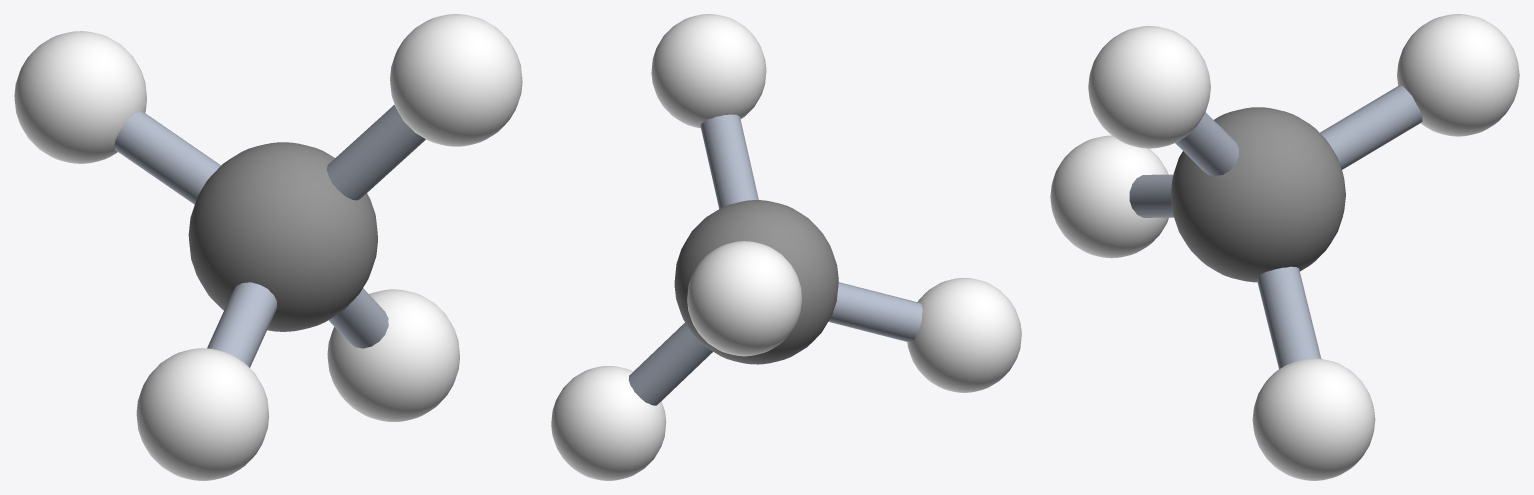
3 views of the same model, side by side, from view 1: azimuth 30°, elevation 25°; view 2: azimuth 150°, elevation 25°; view 3: azimuth 270°, elevation 25° (orthographic). The views are drawn at different scales.
Visible parts, largest first — view 1: H (×4), C, bond (×4); view 2: H (×4), C, bond (×3); view 3: H (×4), C, bond (×4).
Part boxes in pixels (left/top/right/bottom): H (×4): left=14, top=14, right=522, bottom=480; C: left=188, top=142, right=377, bottom=331; bond (×4): left=114, top=105, right=425, bottom=367; H (×4): left=551, top=14, right=1021, bottom=480; C: left=674, top=200, right=838, bottom=364; bond (×3): left=628, top=114, right=922, bottom=405; H (×4): left=1050, top=14, right=1519, bottom=480; C: left=1170, top=107, right=1345, bottom=282; bond (×4): left=1129, top=85, right=1422, bottom=369.
Bounding box in the file's own units: 0.2047 × 0.22 × 0.2168.
